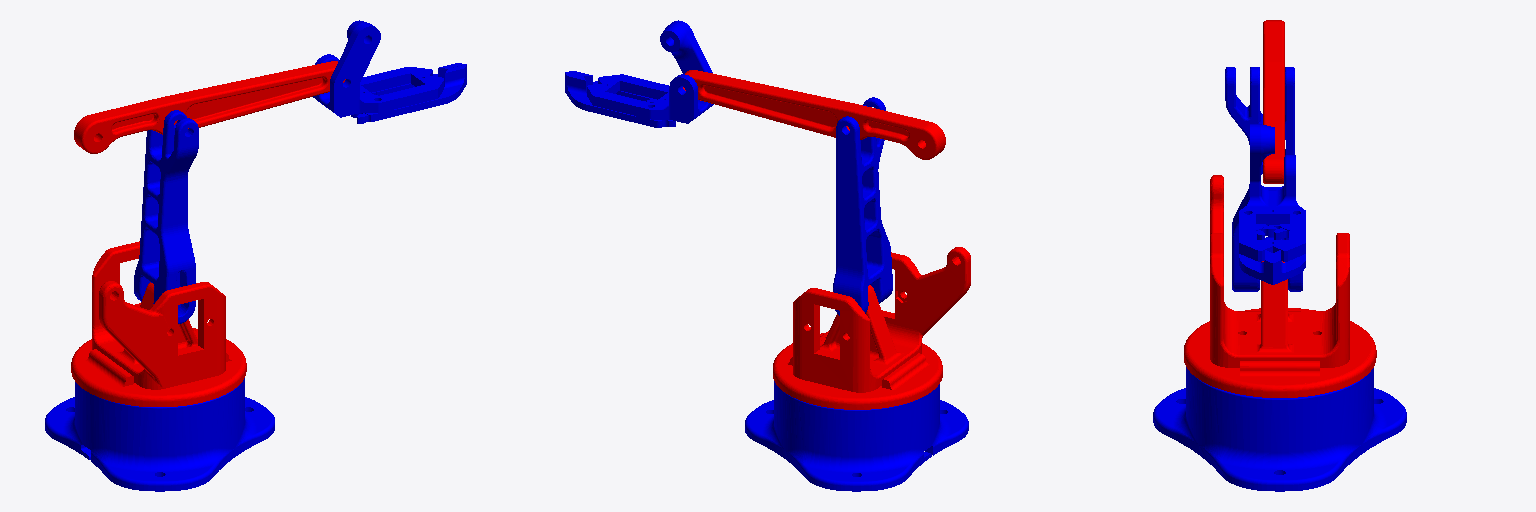
URDF robot description (dummy):
<?xml version="1.0"?>
<robot name="dummy">
  <link name="base_link">
    <visual>
      <origin xyz="0 0 0" rpy="0 0 0" />
      <geometry>
	<mesh filename="package://dummy_ros/meshes/base.stl" scale="0.001 0.001 0.001" />
      </geometry>
      <material name="blue"/>
    </visual>
  </link>

  <joint name="joint_1" type="revolute">
    <origin xyz="0 0 0.049" rpy="0 0 0" />
    <parent link="base_link" />
    <child link="link_1" />
    <axis xyz="0 0 1" />
    <limit
      effort="0"
      velocity="0"
      lower="-1.4" upper="1.4"/>
      <!--   [-80,80]-->
  </joint>

  <link name="link_1">
    <visual>
      <origin xyz="0 0 -0.049" rpy="0 0 0" />
      <geometry>
	<mesh filename="package://dummy_ros/meshes/rotaly.stl" scale="0.001 0.001 0.001" />
      </geometry>
      <material name="red" />
    </visual>
  </link>

  <joint name="joint_2" type="revolute">
    <origin xyz="0 0 0.017" rpy="0 0 0" />
    <parent link="link_1" />
    <child link="link_2" />
    <axis xyz="0 1 0" />
    <limit
      effort="0"
      velocity="0"
      lower="-1.4" upper="1.4"/>
      <!--   [-35,55]-->
  </joint>

  <link name="link_2">
    <visual>
      <origin xyz="0 0 -0.066" rpy="0 0 0" />
      <geometry>
	<mesh filename="package://dummy_ros/meshes/mainarm.stl" scale="0.001 0.001 0.001" />
      </geometry>
      <material name="blue" />
    </visual>
  </link>

  <joint name="joint_3" type="revolute">
    <origin xyz="0 0 0.08" rpy="0 0 0" />
    <parent link="link_2" />
    <child link="link_3" />
    <axis xyz="0 1 0" />
    <limit
      effort="0"
      velocity="0"
      lower="-1.4" upper="1.4"/>
      <!--   [-70,20]-->
  </joint>

  <link name="link_3">
    <visual>
      <origin xyz="-0.035 0 -0.146" rpy="0 0 0" />
      <geometry>
	<mesh filename="package://dummy_ros/meshes/horarm.stl" scale="0.001 0.001 0.001" />
      </geometry>
      <material name="red" />
    </visual>
  </link>

  <joint name="joint_4" type="revolute">
    <origin xyz="0.08 0 0" rpy="0 0 0" />
    <parent link="link_3" />
    <child link="link_4" />
    <axis xyz="0 1 0" />
    <limit
      effort="0"
      velocity="0"
      lower="-1.4" upper="1.4"/>
      <!--   [-45,70]-->
  </joint>

  <link name="link_4">
    <visual>
      <origin xyz="-0.115 0 -0.146" rpy="0 0 0" />
      <geometry>
	<mesh filename="package://dummy_ros/meshes/hand.stl" scale="0.001 0.001 0.001" />
      </geometry>
      <material name="blue" />
    </visual>
  </link>

  <material name="red">
    <color rgba="1 0 0 1"/>
  </material>
  
  <material name="blue">
    <color rgba="0 0 1 1"/>
  </material>

</robot>

--- Render facts (derived) ---
Views: 3 orthographic renders of the robot side by side, from view 1: azimuth 30°, elevation 25°; view 2: azimuth 150°, elevation 25°; view 3: azimuth 270°, elevation 25°.
Robot: dummy — 5 links, 4 joints (4 revolute); root link base_link; default pose: every joint at zero.
Links seen in each view (by area): view 1: link_1, base_link, link_2, link_3, link_4; view 2: link_1, base_link, link_2, link_3, link_4; view 3: base_link, link_1, link_4, link_2, link_3.
Link boxes in pixels (x1,y1,x2,y2): link_1: [71, 241, 246, 406]; base_link: [45, 378, 274, 491]; link_2: [134, 110, 198, 323]; link_3: [74, 61, 345, 153]; link_4: [313, 20, 466, 123]; link_1: [773, 247, 970, 409]; base_link: [745, 381, 968, 491]; link_2: [833, 97, 892, 315]; link_3: [683, 70, 945, 159]; link_4: [565, 20, 713, 127]; base_link: [1153, 367, 1406, 491]; link_1: [1184, 175, 1376, 397]; link_4: [1239, 124, 1305, 284]; link_2: [1225, 67, 1302, 291]; link_3: [1263, 20, 1284, 183].
Bounding box of the posed robot: 0.1857 × 0.0947 × 0.1702 m (x, y, z).
Meshes: 5 distinct files referenced, 5 mesh visuals loaded (5 binary STL).